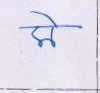e_matra: (30, 10, 60, 25)
